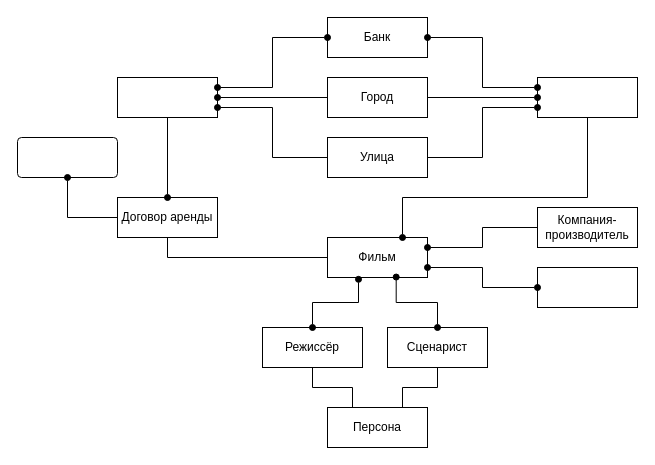
This 655x465 diagram has some shape labels left out. Each missing label, with the centre of its shape:
"Категория" belongs at pixel 587 287.
"Кинотеатр" belongs at pixel 167 97.
"Платеж" belongs at pixel 67 157.
"Поставщик" belongs at pixel 587 97.
